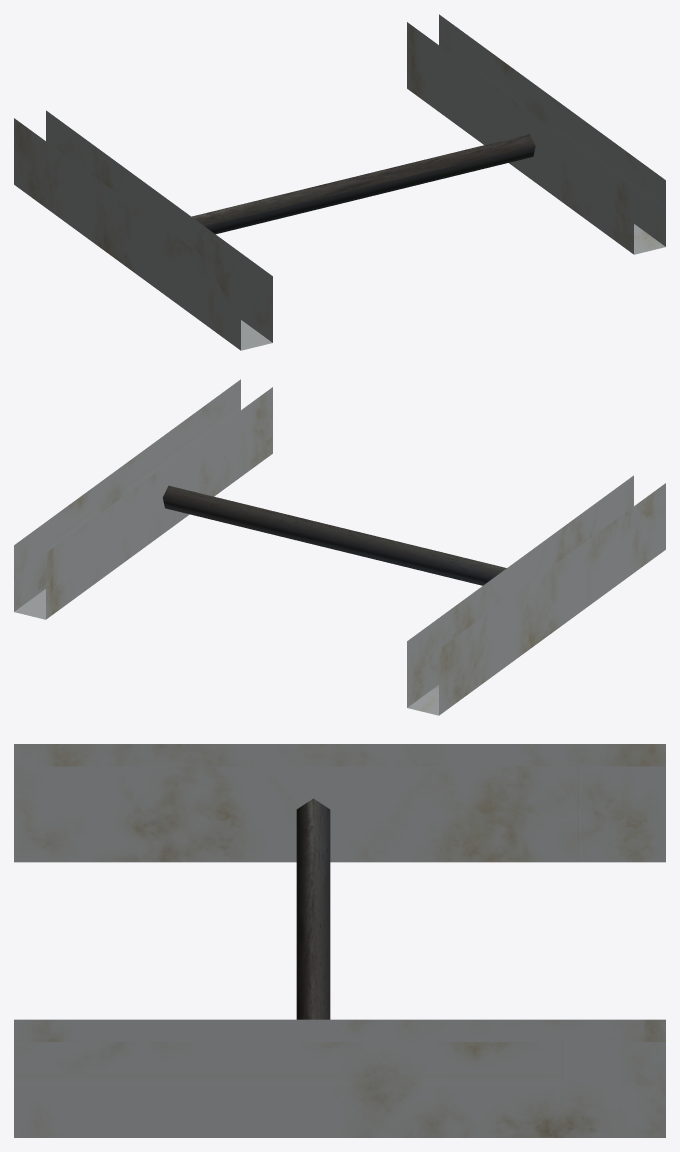
File: Factory_Ceiling_Piece.FBX
3 renders of one model, top to bottom at view 1: azimuth 30°, elevation 25°; view 2: azimuth 150°, elevation 25°; view 3: azimuth 270°, elevation 25°, orthographic. The views are drawn at different scales.
Visible parts, largest first — view 1: Object009; view 2: Object009; view 3: Object009.
Boxes of the visible parts, x1,y1,x2,y2 form: Object009: [14, 14, 665, 350]; Object009: [14, 379, 665, 715]; Object009: [14, 744, 665, 1137].
Size of the model in its own units: 400 by 60 by 370.
1 material, 1 textured.
